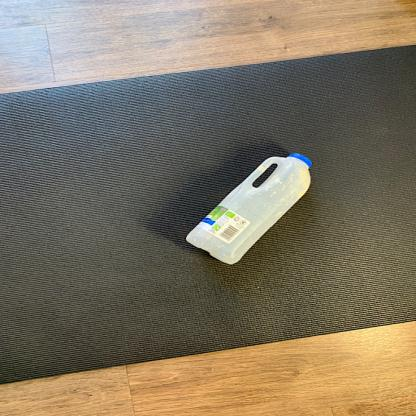trash: (187, 149, 314, 267)
